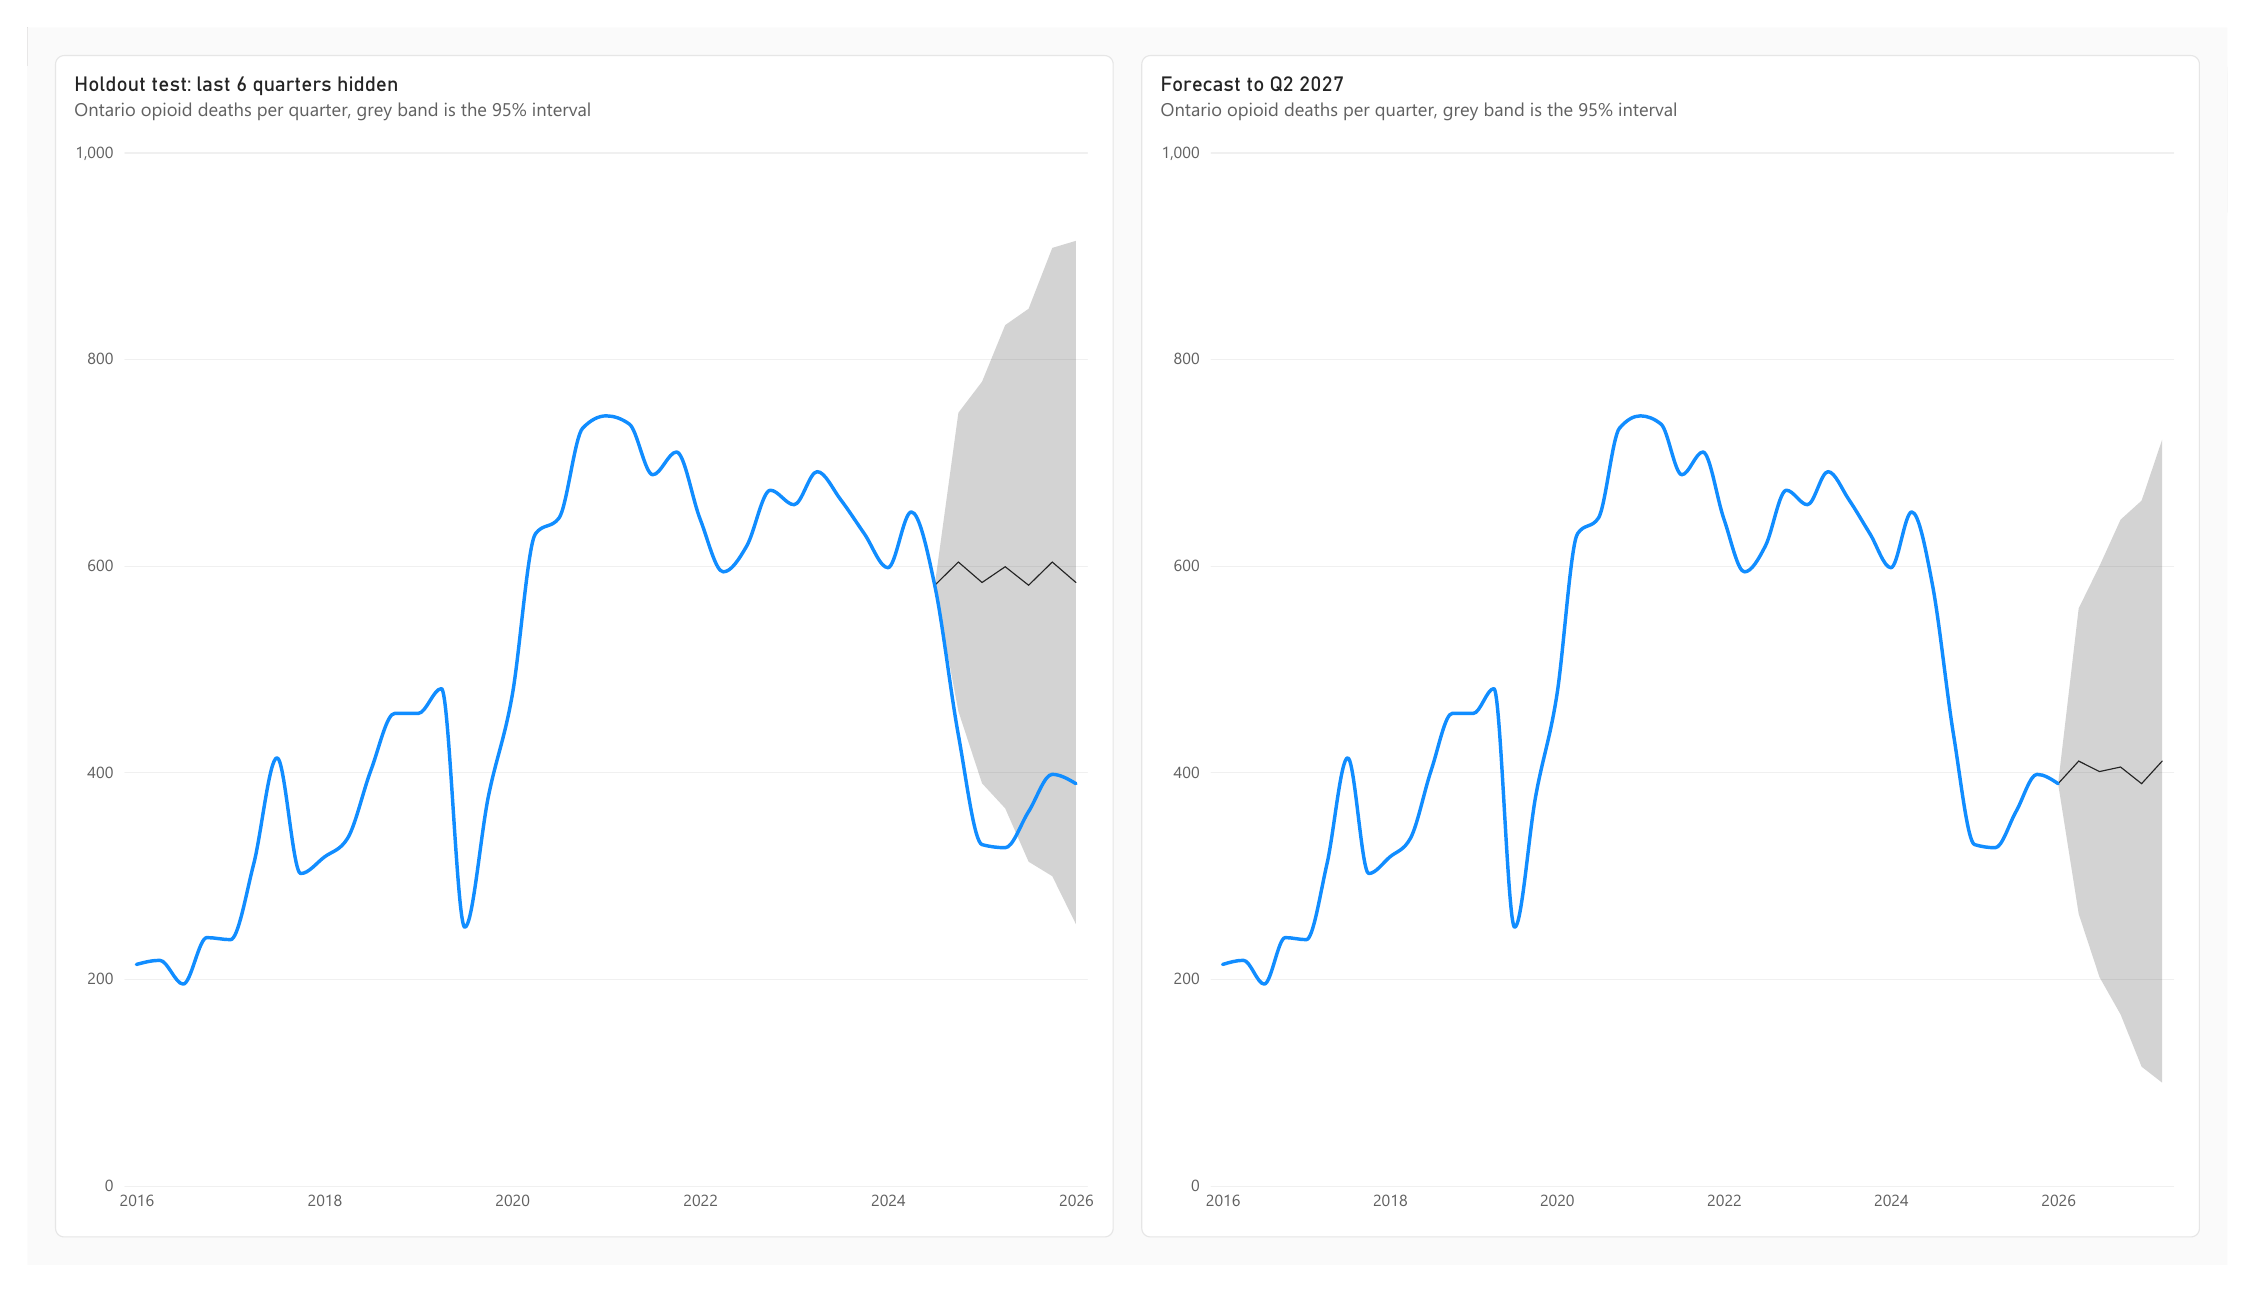

The dashboard page shown, as its layout file describes it:
{"tool":"powerbi","page":{"name":"PowerBI Forecast Check","canvas":[1920,1080],"ordinal":2},"visuals":[{"type":"lineChart","title":"Holdout test: last 6 quarters hidden","fields":{"Category":["powerbi_quarterly.quarter_start"],"Y":["powerbi_quarterly.Actual"]},"box":[24,24,924,1032],"z":0},{"type":"lineChart","title":"Forecast to Q2 2027","fields":{"Category":["powerbi_quarterly.quarter_start"],"Y":["powerbi_quarterly.Actual"]},"box":[972,24,924,1032],"z":1000}]}

Visuals, with their boxes in screenshot pixels (x1, y1, x2, y2), scaled from the page's 1920x1080 canvas onto the 2255x1293 screenshot:
"Holdout test: last 6 quarters hidden" lineChart: [28, 29, 1113, 1264]
"Forecast to Q2 2027" lineChart: [1142, 29, 2227, 1264]
